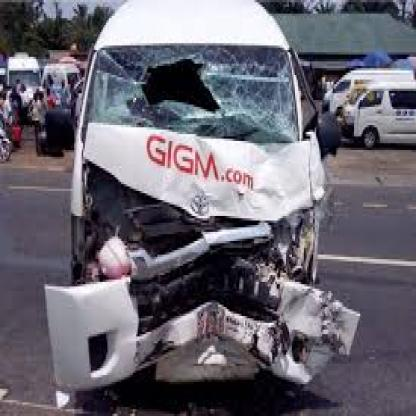accident: (48, 5, 364, 416)
